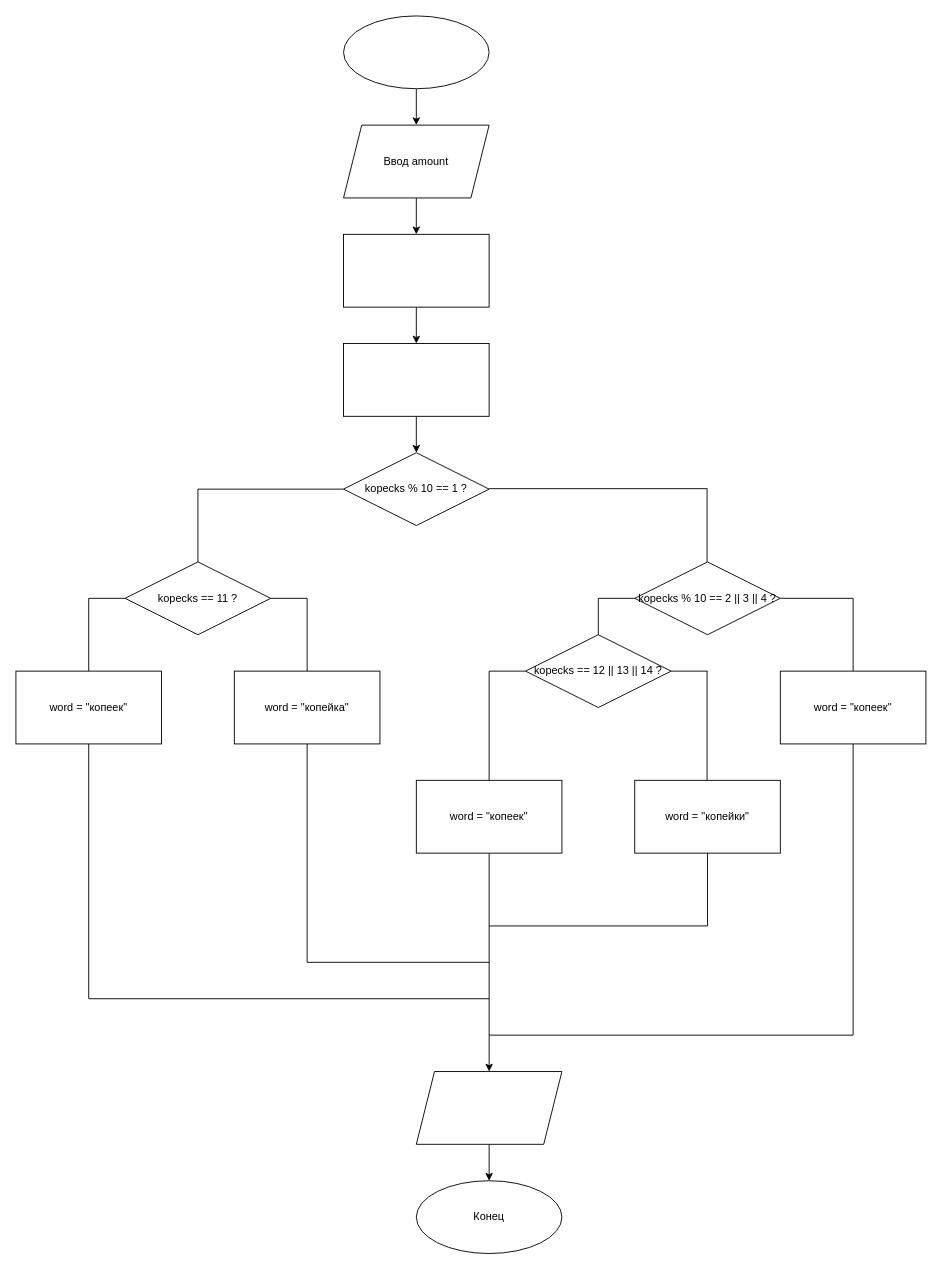
Some shapes in this 942 by 1269 pixel diagram are drawn without their labels. Each missing label, with the centre of its shape:
"kopecks = amount % 100" goes at (x=416, y=379).
"rubles = amount / 100" goes at (x=416, y=270).
"Вывод данных" goes at (x=488, y=1107).
"Начало" goes at (x=416, y=52).
